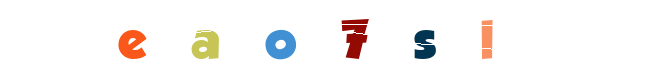7: (286, 0, 366, 80)
A: (248, 0, 328, 80)
E: (101, 0, 181, 80)
L: (384, 0, 464, 80)
O: (267, 0, 347, 80)
S: (315, 0, 395, 80)
